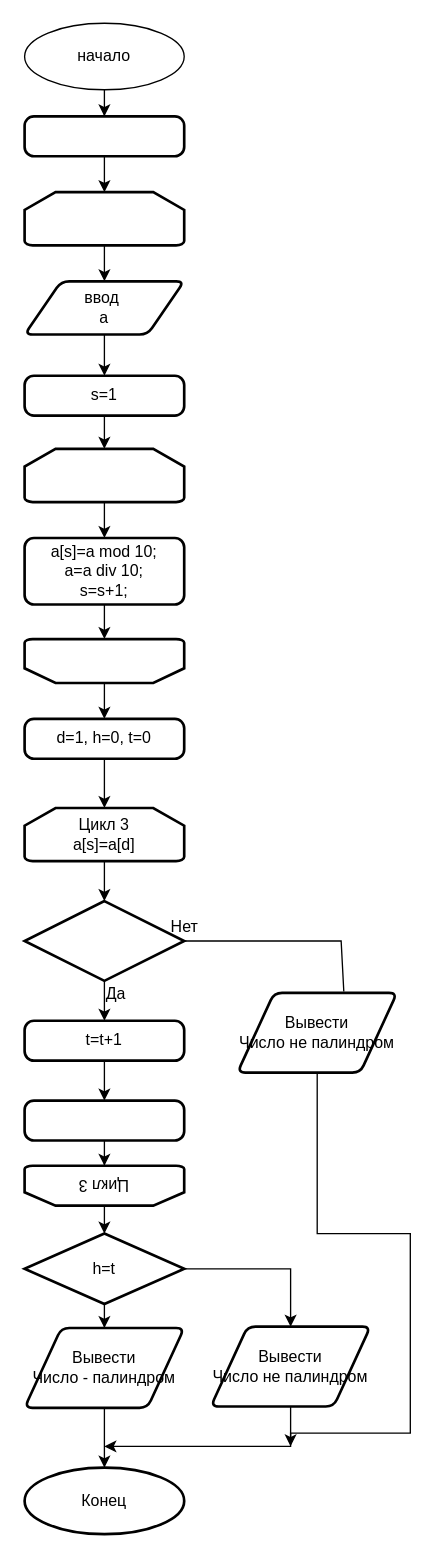
Image size: 444x1559. Some labels were removed from this diagram. The box of each missing label's shape, as (x1, y1, x2, y2) in pixels:
a[s]=a[d]: (23, 899, 185, 982)
h=h+1: (23, 1099, 185, 1141)
x=1: (23, 114, 185, 157)
Цикл 1 x=21: (23, 190, 185, 246)
Цикл 2: (23, 637, 185, 684)
Цикл 2 a=0: (23, 447, 185, 503)
